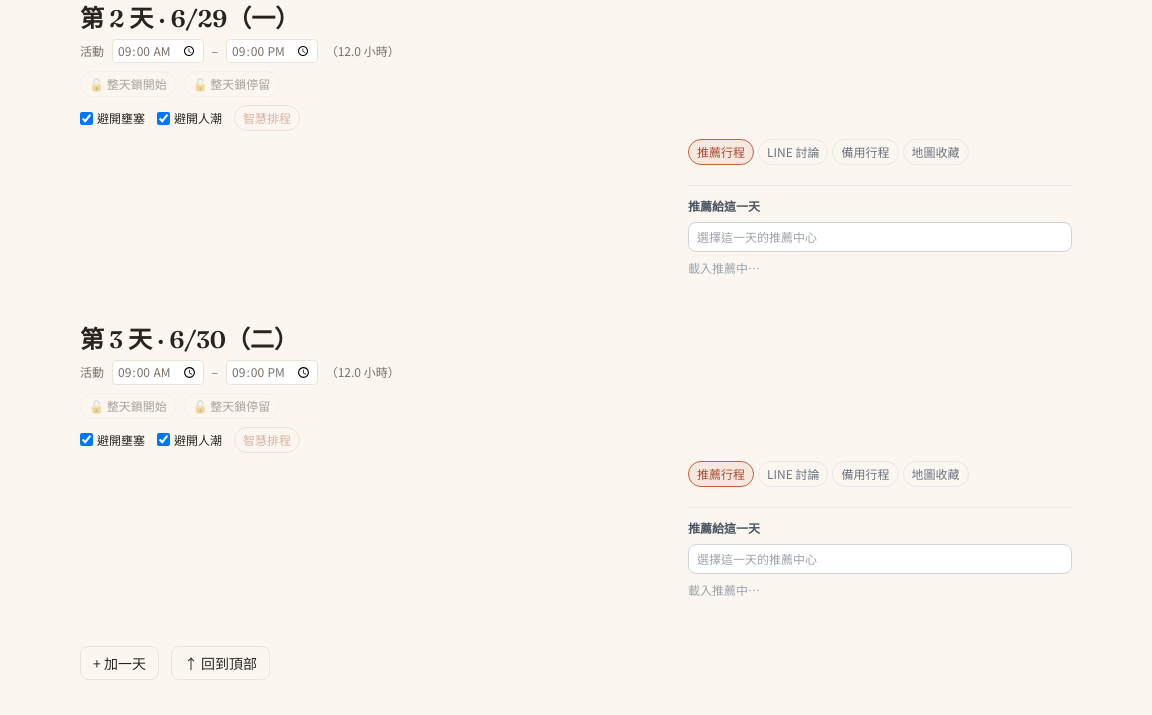
Test: clicking bottom "+ 加一天" appends an empty day, same as the top ▲
This screenshot has width=1152, height=715.
(page scrolled)
Step 1. Click the button with test id "bottom-add-day" → (119, 663), box [80,646,159,680]
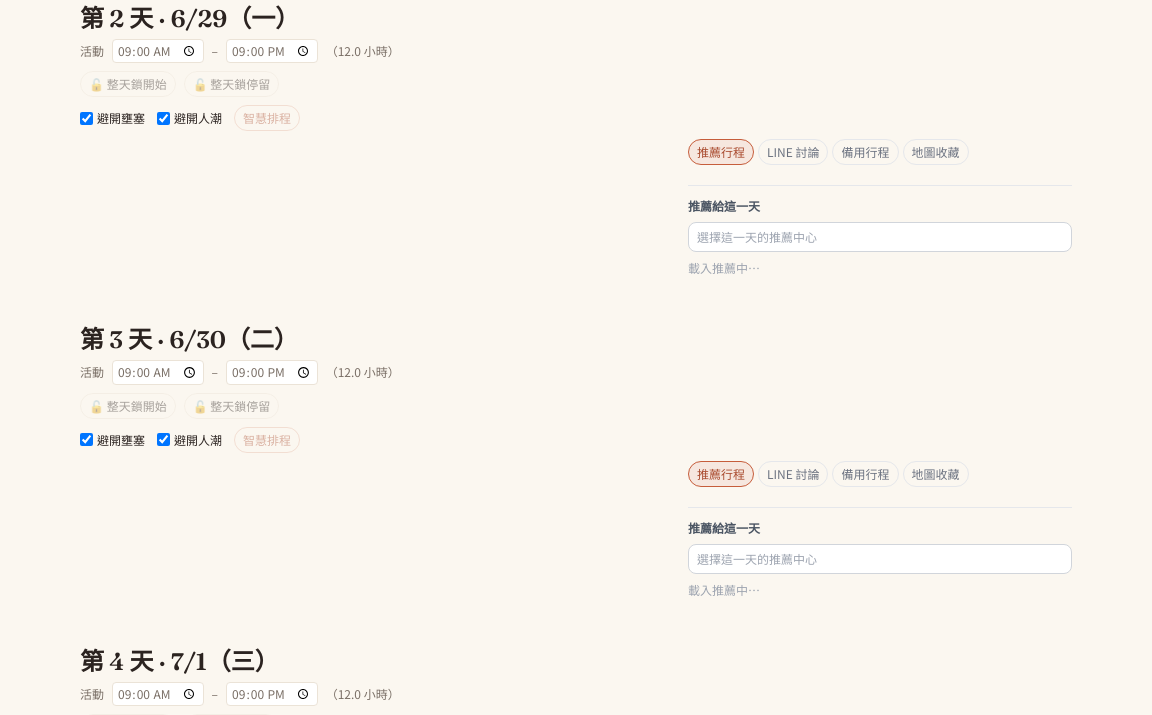
Expected: the heading "第 4 天 · 7/1（三）" is shown, [80,647,279,676]
